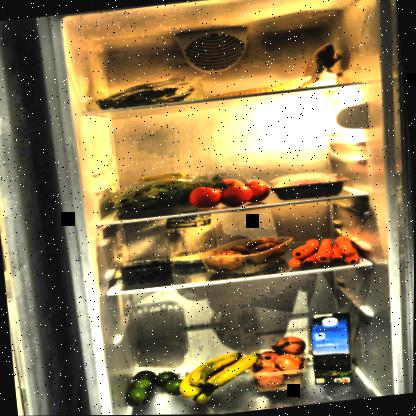banana: (176, 349, 266, 407)
blueberries: (117, 254, 178, 286)
carrot: (282, 232, 365, 273)
green_beans: (90, 74, 207, 112)
ground_beef: (266, 167, 354, 202)
lime: (124, 365, 191, 410)
milk: (306, 310, 360, 389)
onion: (244, 335, 311, 395)
potato: (203, 233, 291, 276)
spinach: (110, 167, 220, 216)
tomato: (185, 174, 271, 211)
